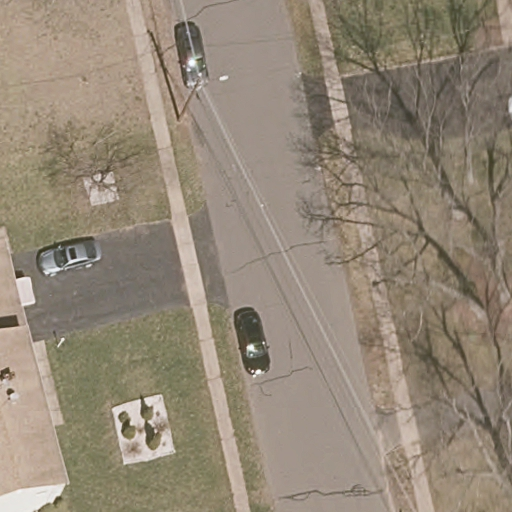DT: (175, 68, 229, 123)
